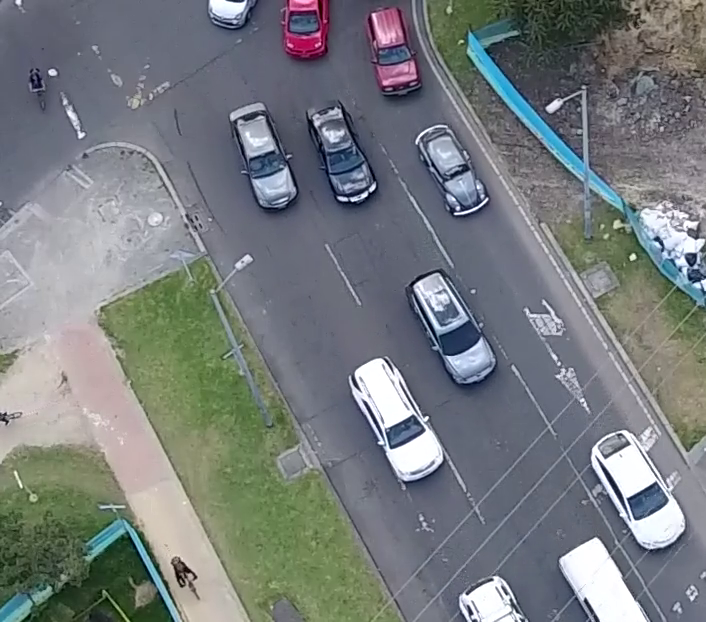car: (347, 355, 446, 488), (585, 427, 689, 553), (401, 265, 498, 387), (407, 117, 493, 220), (302, 96, 381, 208), (224, 98, 300, 213), (364, 4, 422, 100)
